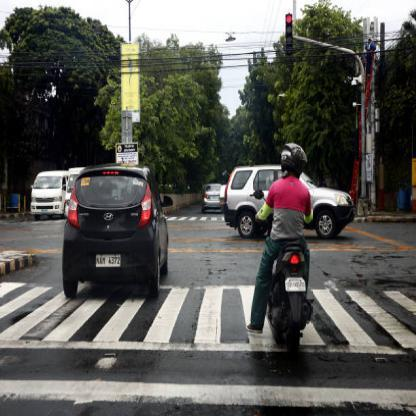Motorcycle: (262, 238, 322, 354)
